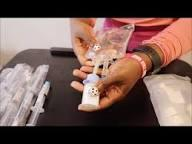Syringe: (12, 65, 48, 125), (26, 81, 49, 125)
